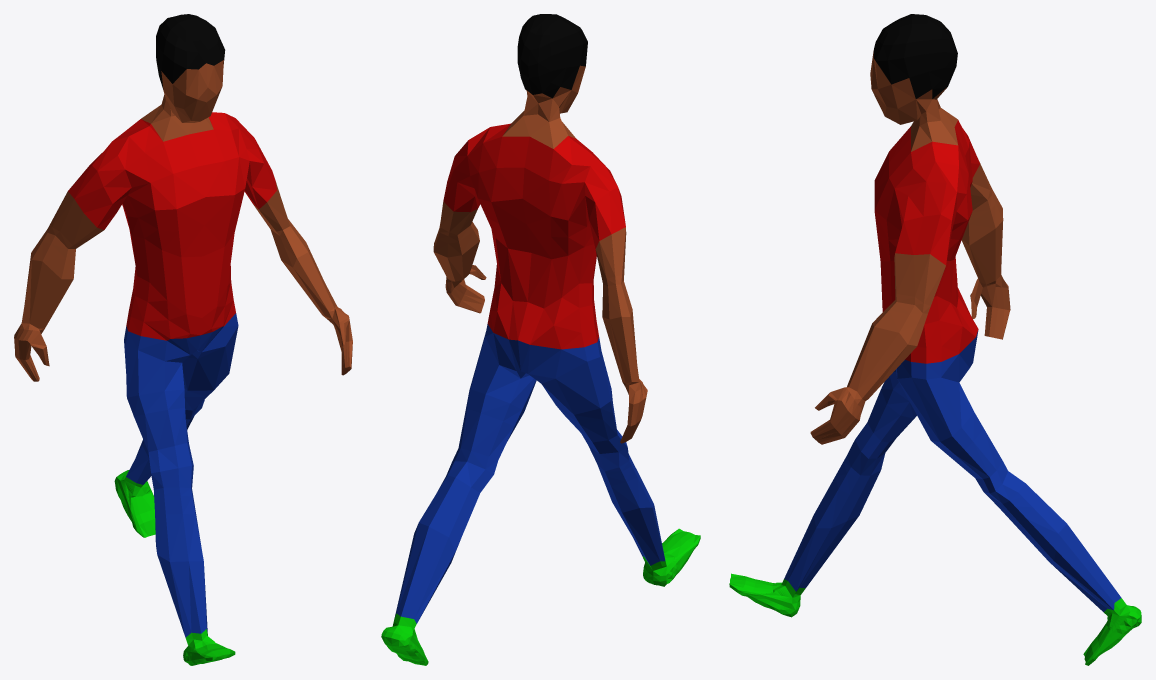
Rendered from Character5.obj.
The picture shows the model from 3 angles, left to right: view 1: azimuth 30°, elevation 25°; view 2: azimuth 150°, elevation 25°; view 3: azimuth 270°, elevation 25°; orthographic projection. The views are drawn at different scales.
Visible parts, largest first — view 1: Cube_Cube.002; view 2: Cube_Cube.002; view 3: Cube_Cube.002.
Boxes of the visible parts, x1=… form: Cube_Cube.002: x1=14, y1=14, x2=352, y2=665; Cube_Cube.002: x1=381, y1=14, x2=700, y2=665; Cube_Cube.002: x1=729, y1=14, x2=1141, y2=665.
Size of the model in its own units: 0.7701 by 1.65 by 0.9959.
